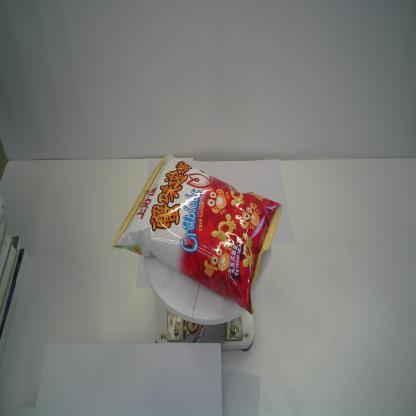Puffed Food: (110, 152, 282, 316)
